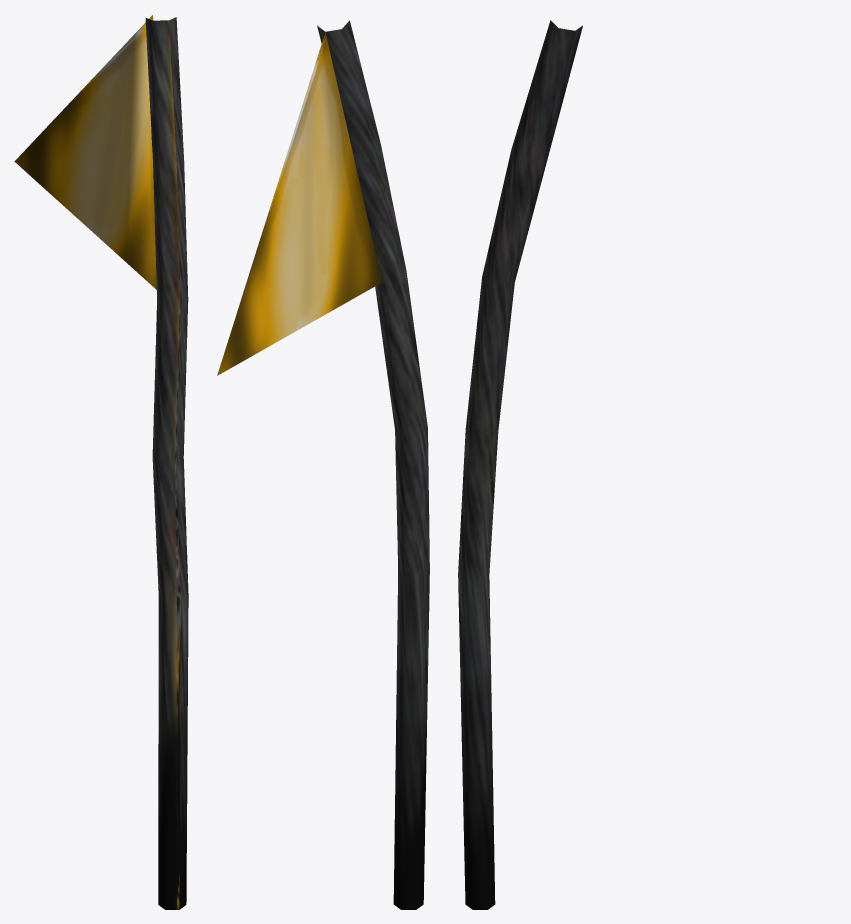
The model's file is vlag.glb.
The picture shows the model from 3 angles, left to right: view 1: azimuth 30°, elevation 25°; view 2: azimuth 150°, elevation 25°; view 3: azimuth 270°, elevation 25°; orthographic projection. The views are drawn at different scales.
Visible parts, largest first — view 1: flag.jpg__; view 2: flag.jpg__; view 3: flag.jpg__.
Boxes of the visible parts, box(x1,y1,x2,y2) form: flag.jpg__: box(14, 15, 188, 909); flag.jpg__: box(217, 20, 429, 909); flag.jpg__: box(458, 20, 582, 909).
Bounding box in the file's own units: 2.31 × 33.36 × 12.73.
Materials: 1 (1 with a texture image).
